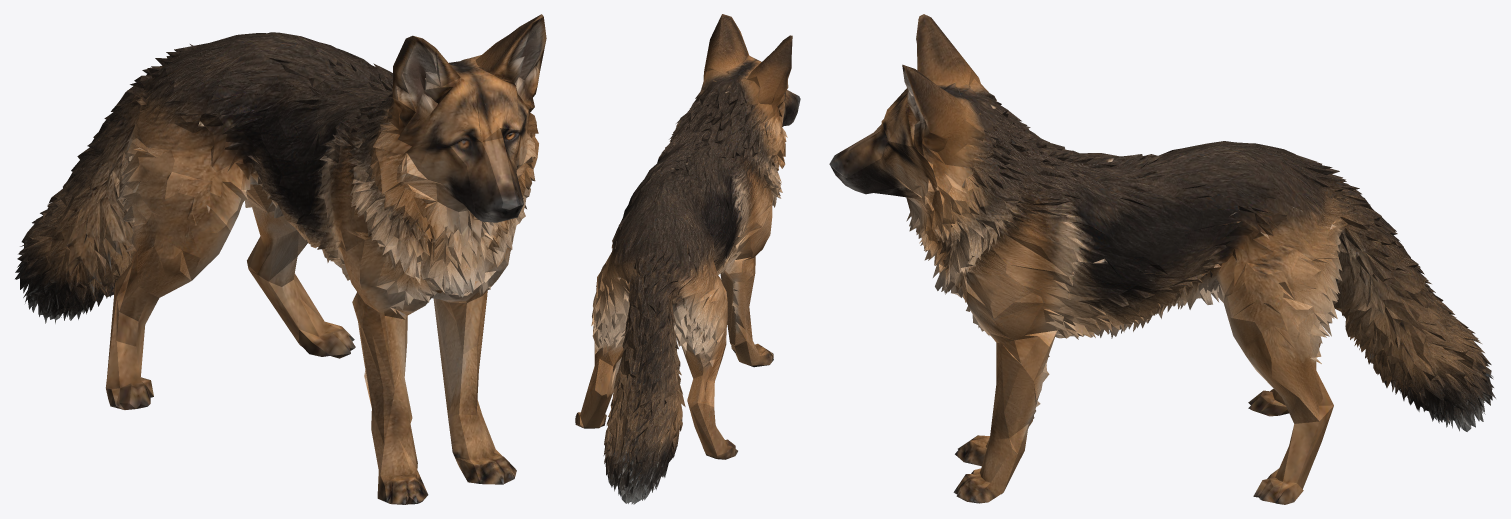
The model's file is shepherd.glb.
3 renders of one model, left to right at view 1: azimuth 30°, elevation 25°; view 2: azimuth 150°, elevation 25°; view 3: azimuth 270°, elevation 25°, orthographic. The views are drawn at different scales.
Parts seen in each view (by area): view 1: output_unwrapped; view 2: output_unwrapped; view 3: output_unwrapped.
Part boxes in pixels (bbox=[...]): output_unwrapped: bbox=[15, 14, 546, 504]; output_unwrapped: bbox=[575, 14, 800, 504]; output_unwrapped: bbox=[829, 14, 1495, 504].
Bounding box in the file's own units: 0.3526 × 0.65 × 0.8937.
Materials: 1 (1 with a texture image).
